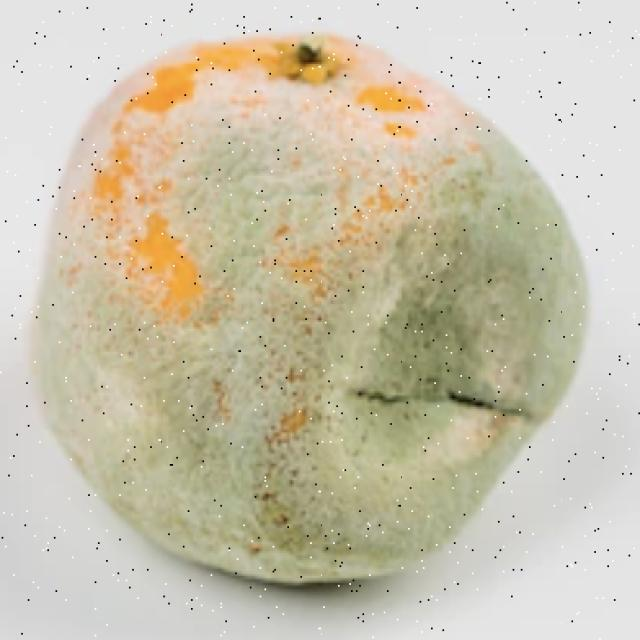Organik: (26, 11, 594, 611)
